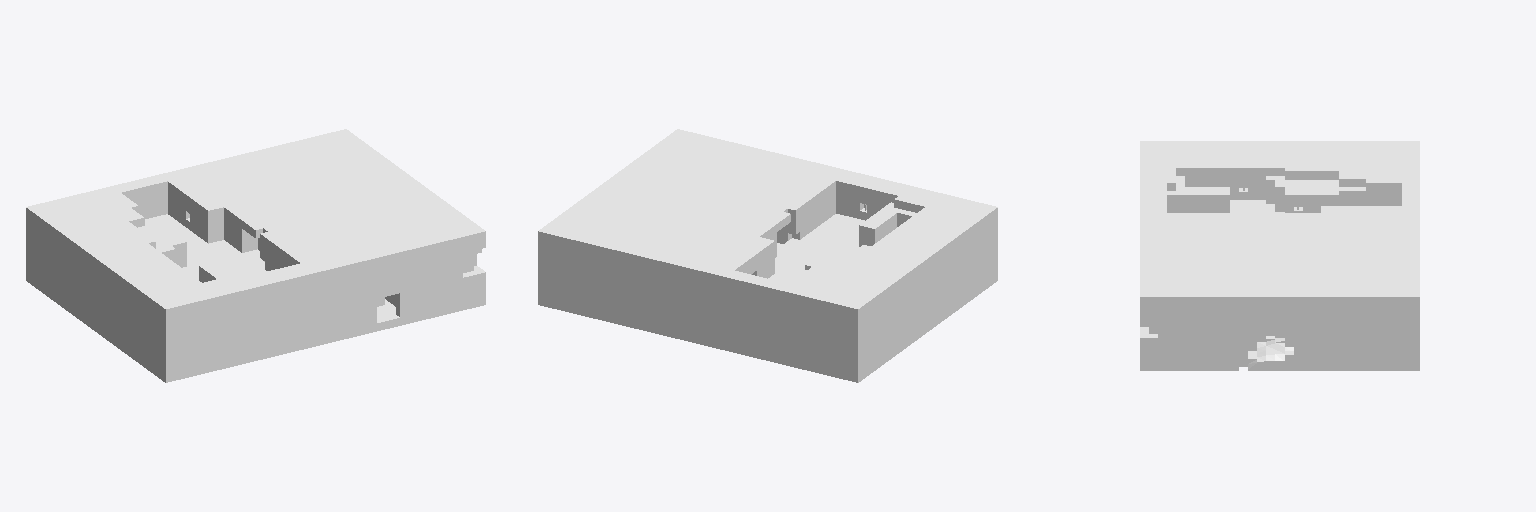
Rendered from level2.obj.
3 views of the same model, side by side, from view 1: azimuth 30°, elevation 25°; view 2: azimuth 150°, elevation 25°; view 3: azimuth 270°, elevation 25° (orthographic).
Visible parts, largest first — view 1: unity3d__-215_39_461_to_-175_47_491; view 2: unity3d__-215_39_461_to_-175_47_491; view 3: unity3d__-215_39_461_to_-175_47_491.
Part boxes in pixels (bbox=[...]): unity3d__-215_39_461_to_-175_47_491: bbox=[26, 129, 485, 382]; unity3d__-215_39_461_to_-175_47_491: bbox=[538, 129, 997, 382]; unity3d__-215_39_461_to_-175_47_491: bbox=[1140, 141, 1419, 370].
Bounding box in the file's own units: 41 × 9 × 31.